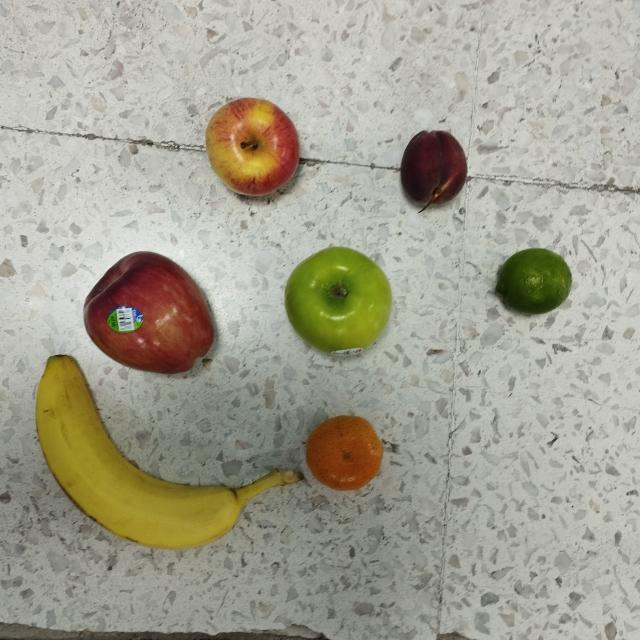Apel Gala: (175, 62, 329, 216)
Apel Granny Smith: (274, 231, 402, 371)
Apel Merah: (70, 221, 238, 396)
Jeruk Mandarin: (290, 395, 400, 500)
Lemon: (464, 231, 600, 330)
Persik: (398, 116, 482, 220)
Pisang: (13, 340, 310, 560)
